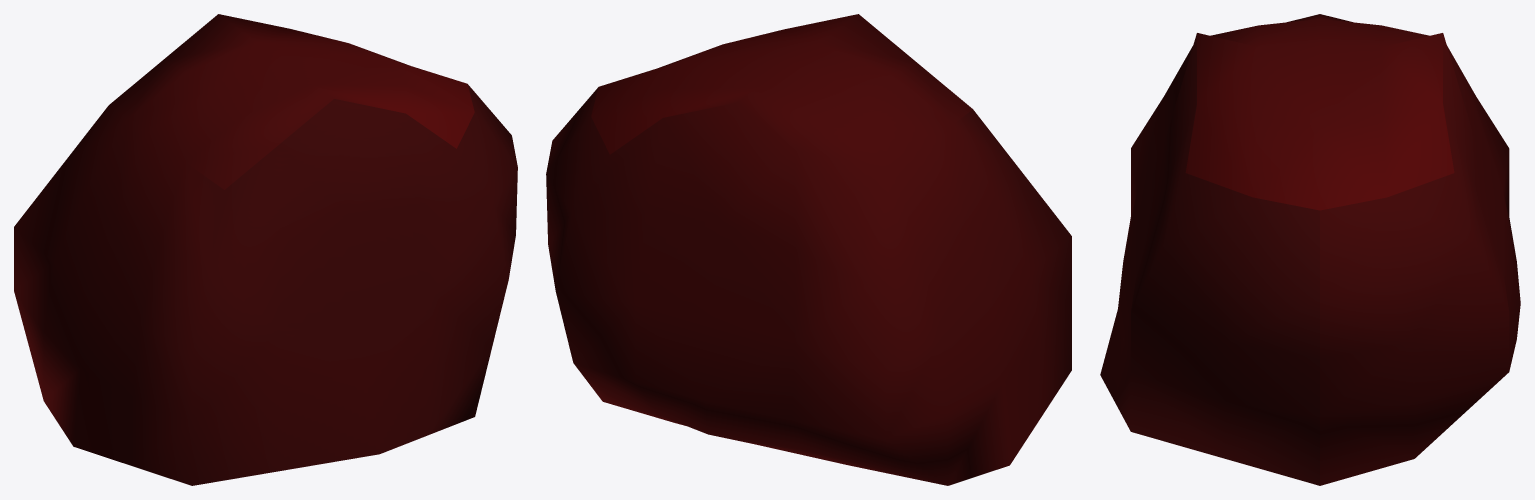
The model's file is geology-pebbles-asphalt_v10.fbx.
3 renders of one model, left to right at view 1: azimuth 30°, elevation 25°; view 2: azimuth 150°, elevation 25°; view 3: azimuth 270°, elevation 25°, orthographic. The views are drawn at different scales.
Parts seen in each view (by area): view 1: Asphalt_v10; view 2: Asphalt_v10; view 3: Asphalt_v10.
Boxes of the visible parts, x1=… form: Asphalt_v10: x1=14, y1=14, x2=517, y2=485; Asphalt_v10: x1=546, y1=14, x2=1071, y2=485; Asphalt_v10: x1=1100, y1=14, x2=1520, y2=485.
Bounding box in the file's own units: 7.27 × 5.4 × 5.69.
